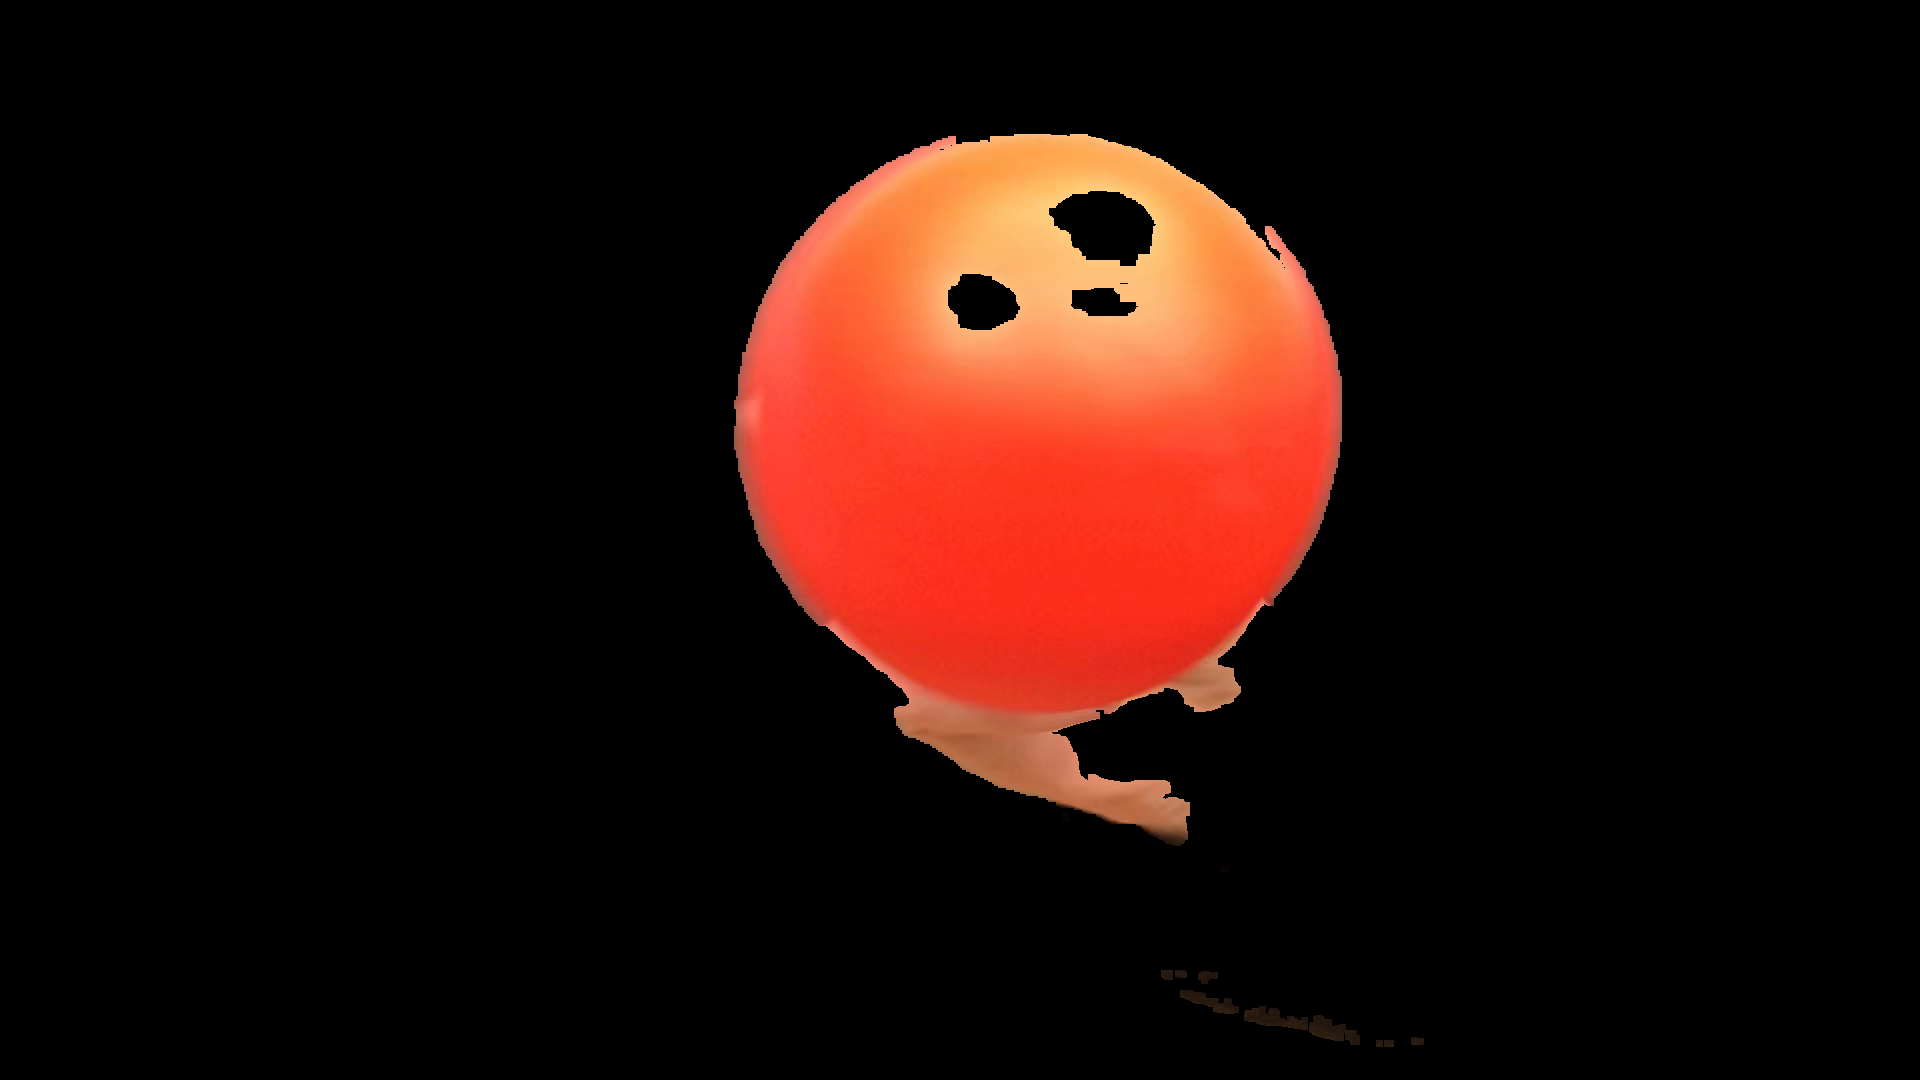Ball: (735, 119, 1342, 707)
